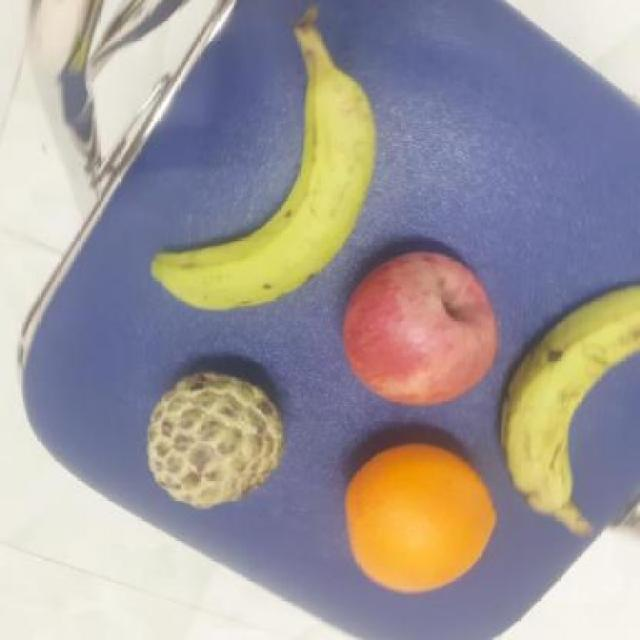apple: (341, 250, 502, 408)
banana: (147, 69, 384, 316), (501, 278, 640, 513)
oren: (342, 441, 496, 599)
sugar apple: (145, 369, 293, 516)
